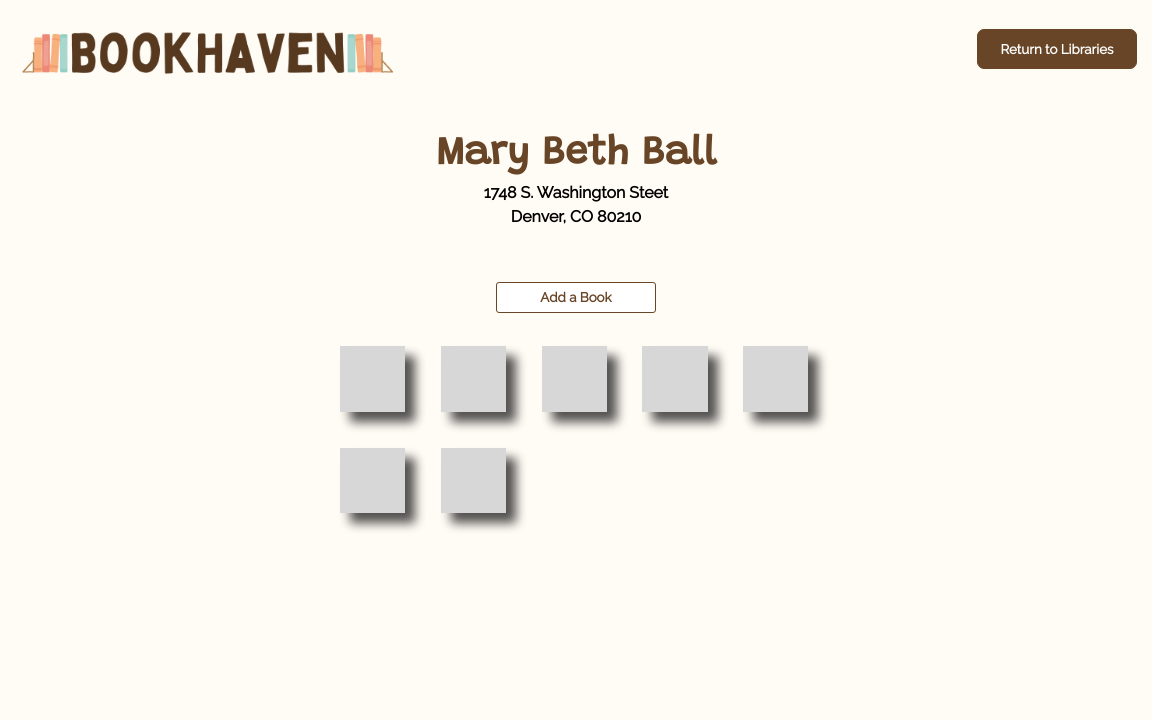
Test: Library Details page › should display an add book button which displays a form on the page with instructions to add a book
What coordinates should you click on to do the following:
click the button with class "addBookBtn"
I would click on:
 (576, 298)
Its box is [496, 282, 656, 313].
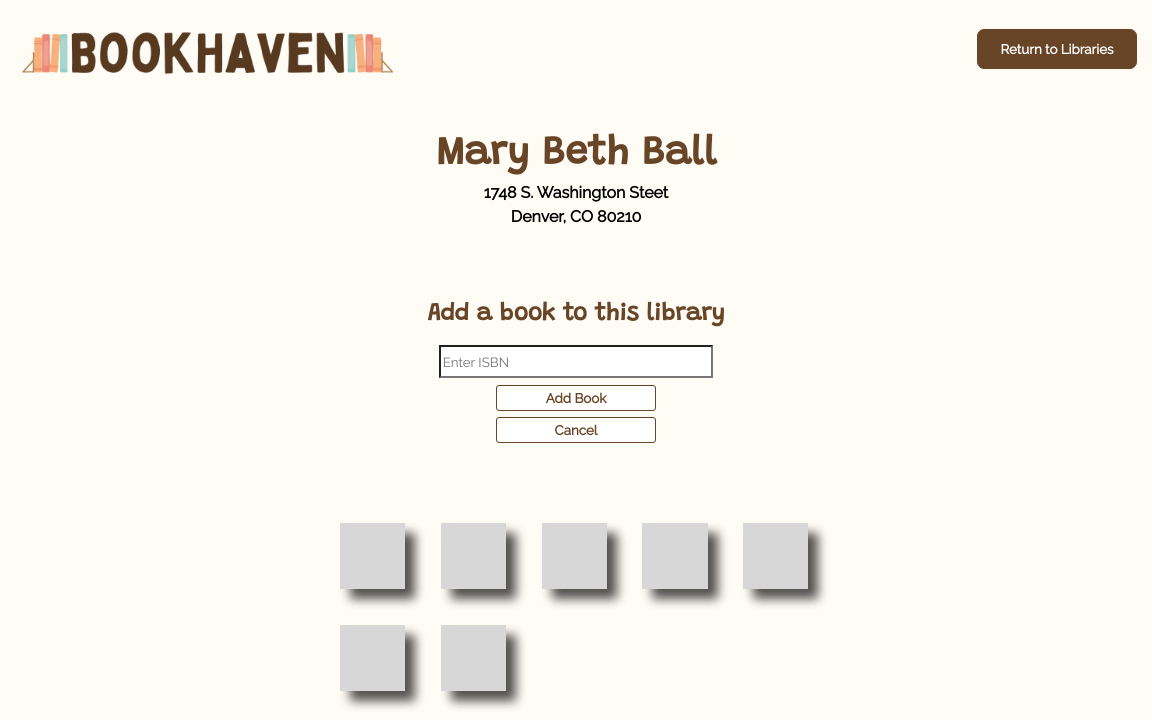
Result: the heading "Add a book to this library" is shown at [427, 302, 725, 326]
